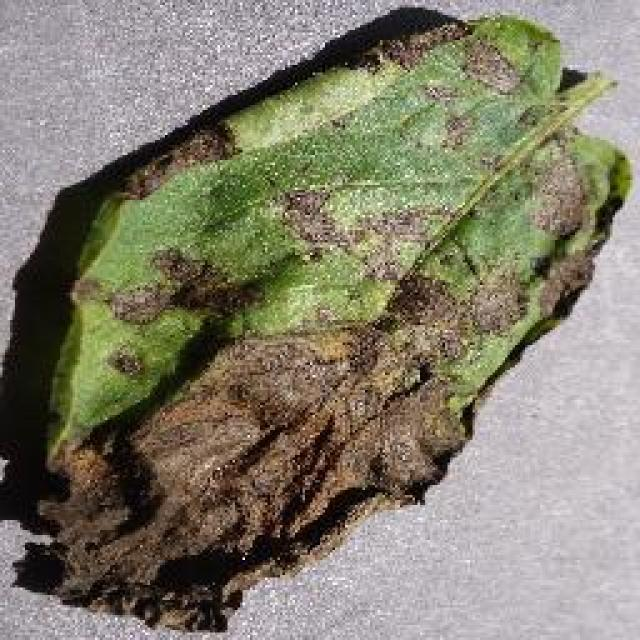Potato___Early_blight: (29, 8, 638, 637)
